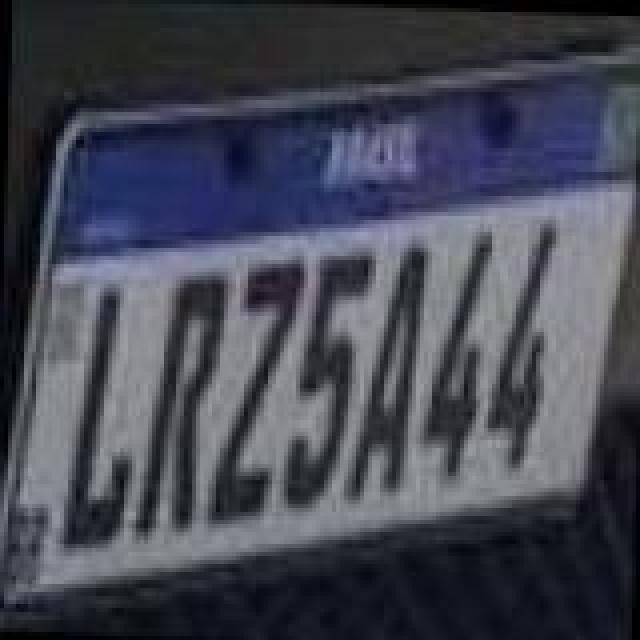4: (418, 222, 494, 478), (482, 218, 558, 474)
5: (278, 244, 374, 512)
A: (344, 238, 428, 506)
L: (54, 278, 138, 554)
R: (134, 272, 230, 540)
Z: (204, 254, 304, 530)
